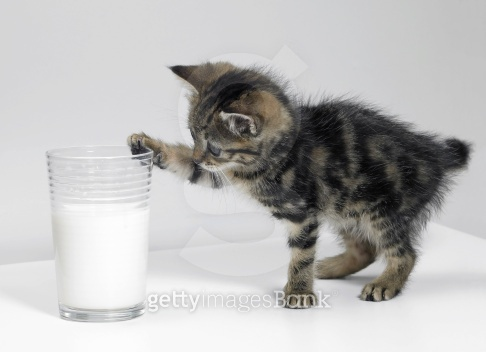glass of milk: (42, 143, 155, 329)
